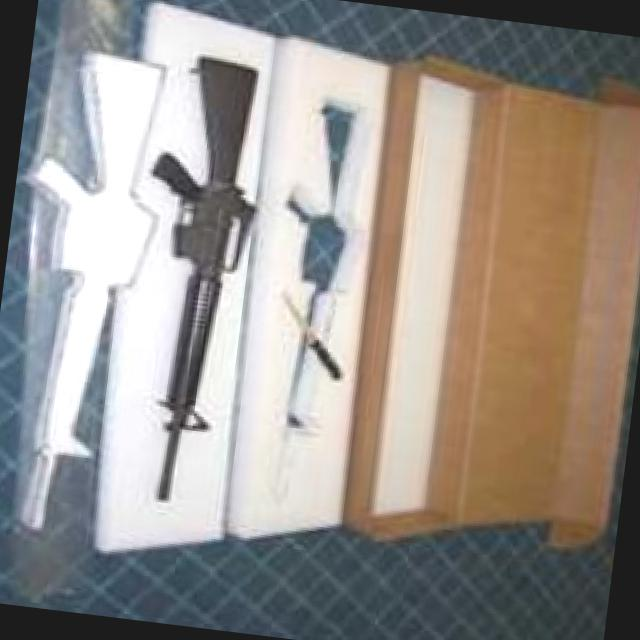long weapon: (127, 43, 288, 483)
